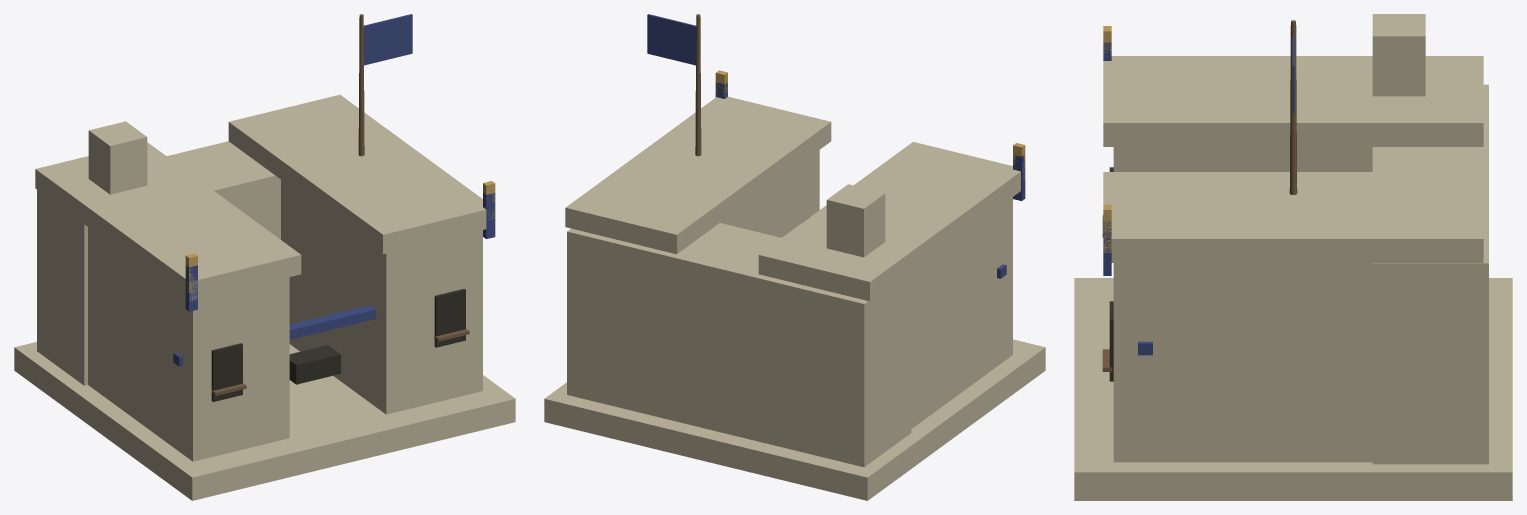
Rendered from b-smithy-persian.glb.
3 views of the same model, side by side, from view 1: azimuth 30°, elevation 25°; view 2: azimuth 150°, elevation 25°; view 3: azimuth 270°, elevation 25° (orthographic). The views are drawn at different scales.
Visible parts, largest first — view 1: Structure, era1, era2; view 2: Structure; view 3: Structure, era3.
Part boxes in pixels (x1,y1,x2,y2): Structure: (14,14,515,500); era1: (185,202,495,311); era2: (185,192,495,301); Structure: (544,14,1045,500); Structure: (1074,14,1512,500); era3: (1103,26,1111,252).
Size of the model in its own units: 4.35 by 4.6 by 4.15.
